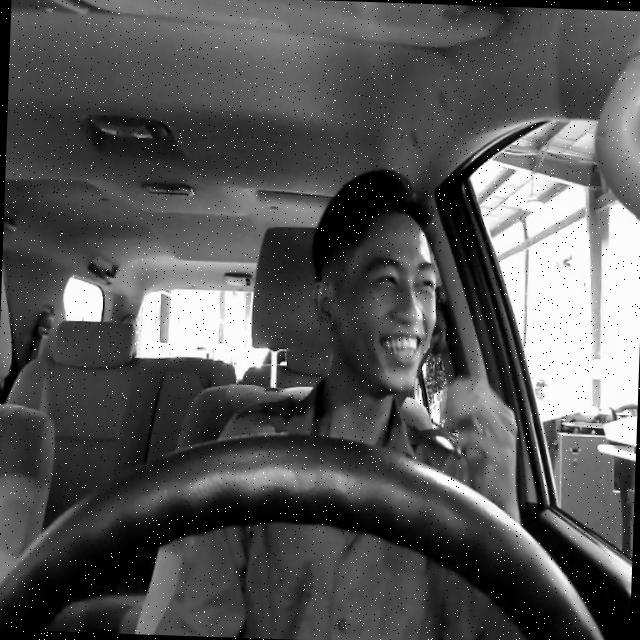focused: (308, 204, 440, 394)
